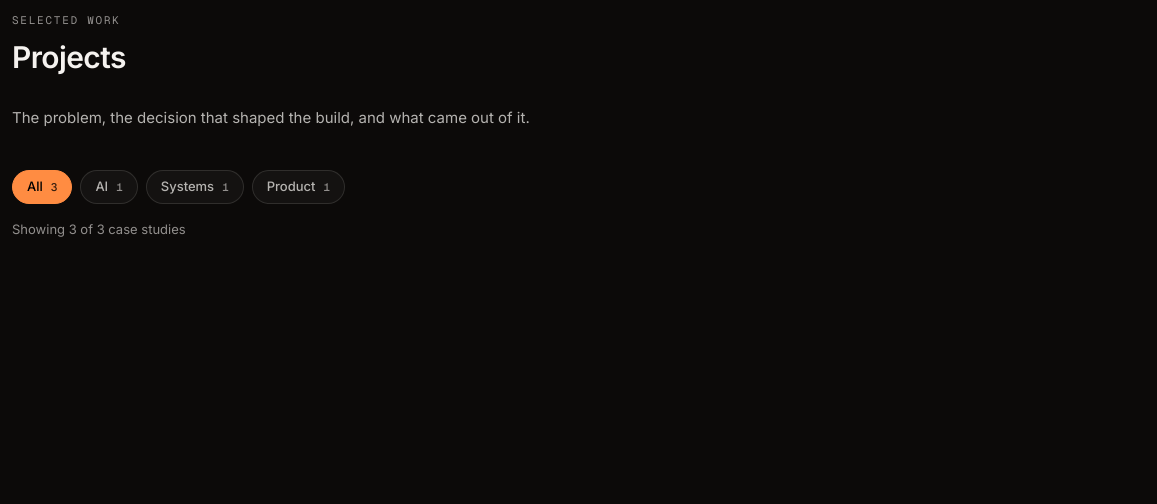
Test: Projects › announces the result count in a polite live region
Expected: the message shows "3", left=12, top=221, right=186, bottom=237
Click the button "Product 1" at [298, 187], box left=252, top=170, right=345, bottom=204
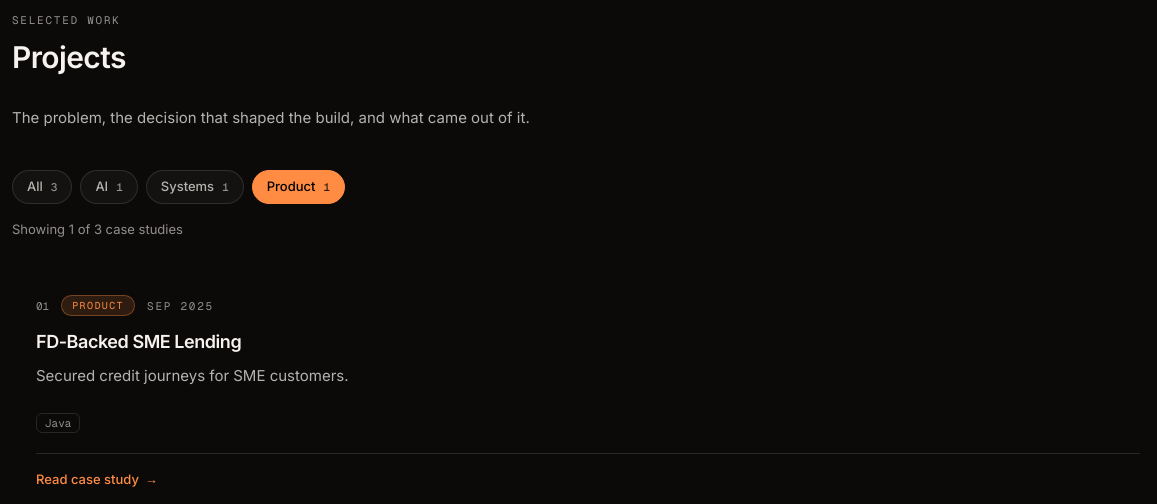
Expected: the message shows "1", left=12, top=221, right=183, bottom=237
